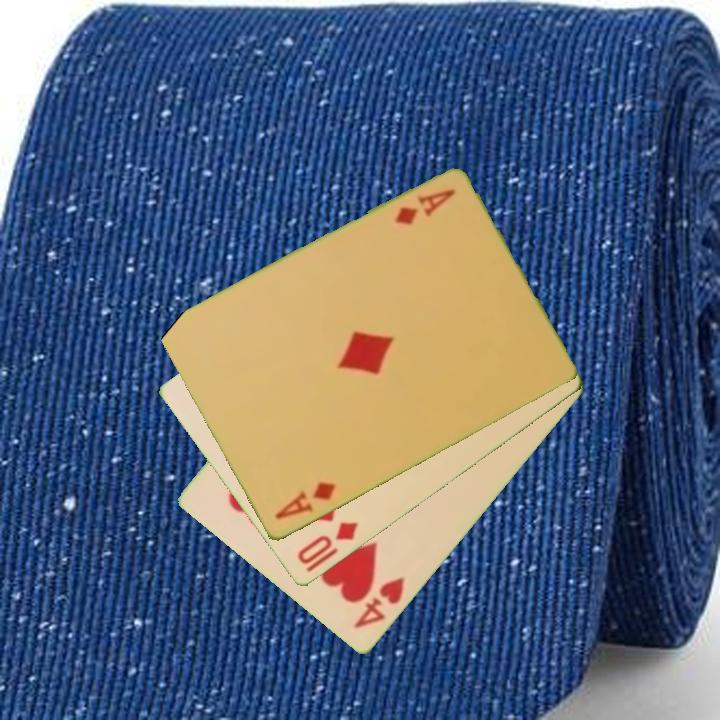10d: (293, 518, 362, 576)
4h: (350, 574, 408, 632)
Ad: (271, 478, 338, 523), (391, 185, 459, 229)
